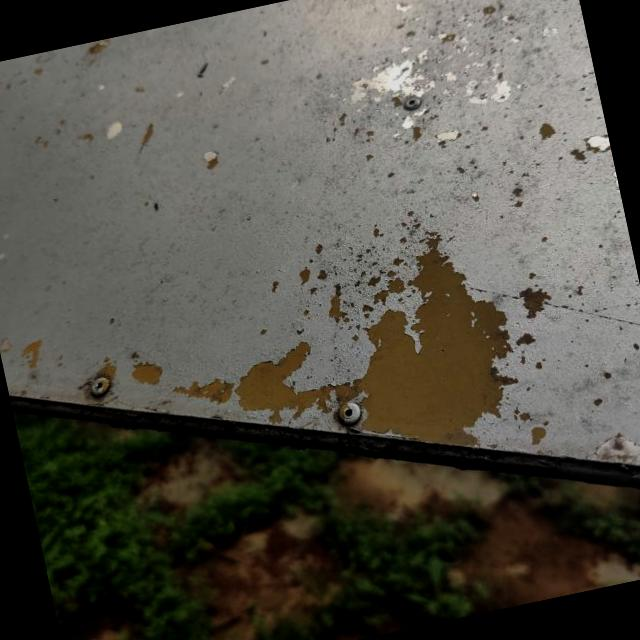paint-off: (108, 183, 592, 537)
